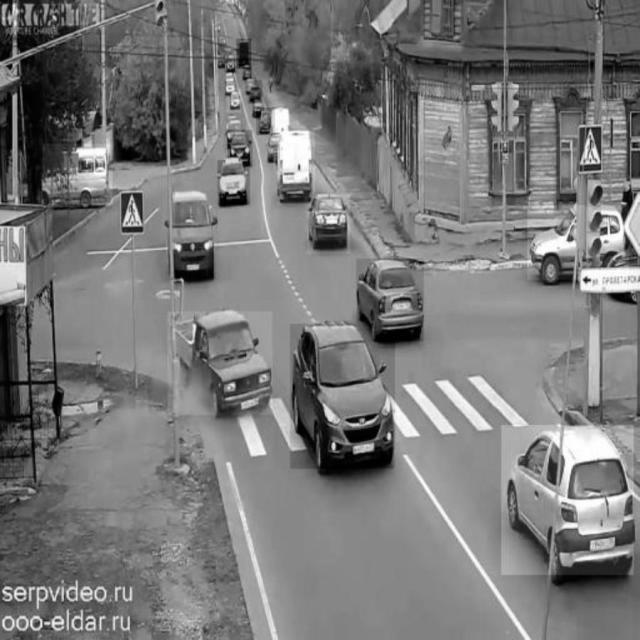vehicle: (501, 426, 633, 576), (291, 324, 395, 468), (167, 312, 271, 415), (528, 205, 629, 279), (356, 259, 423, 341), (168, 191, 218, 281), (43, 144, 113, 205), (277, 131, 315, 205), (308, 194, 350, 254), (218, 161, 250, 206), (228, 130, 253, 167), (257, 107, 275, 135), (237, 39, 252, 69), (227, 89, 242, 113), (248, 80, 263, 104), (224, 54, 234, 72)
